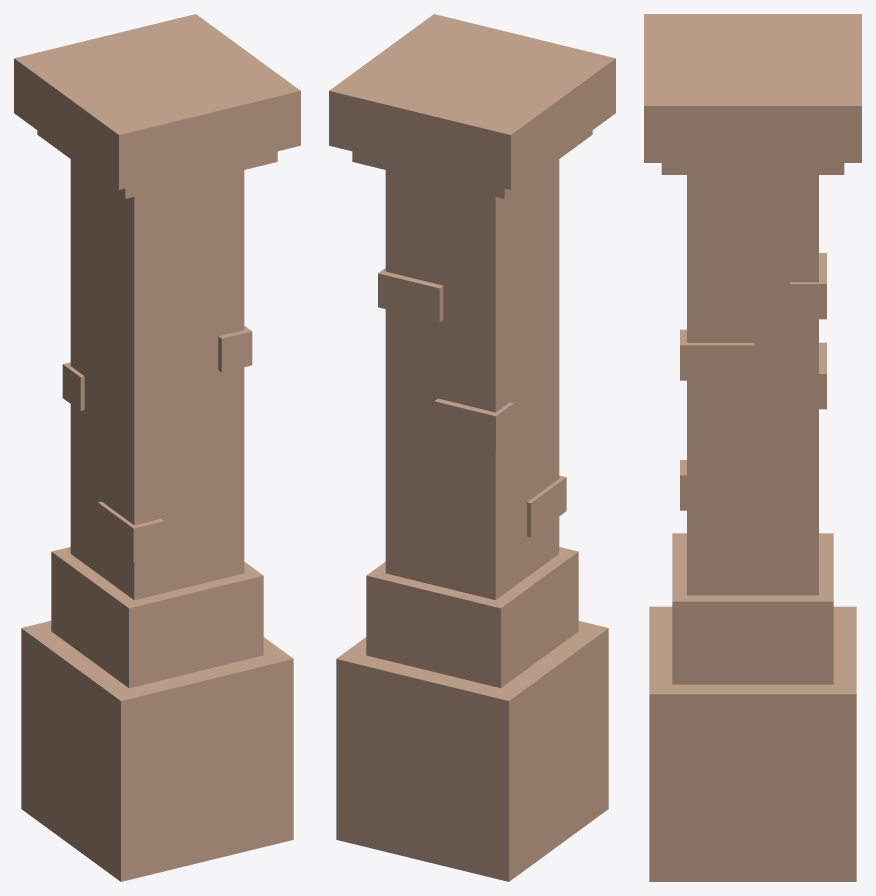
Rendered from pillar.glb.
3 renders of one model, left to right at view 1: azimuth 30°, elevation 25°; view 2: azimuth 150°, elevation 25°; view 3: azimuth 270°, elevation 25°, orthographic. The views are drawn at different scales.
Visible parts, largest first — view 1: Pillar; view 2: Pillar; view 3: Pillar.
Boxes of the visible parts, left/top/right/bottom form: Pillar: left=14, top=14, right=300, bottom=881; Pillar: left=329, top=14, right=615, bottom=881; Pillar: left=644, top=14, right=861, bottom=881.
Size of the model in its own units: 1.05 by 4.14 by 1.05.
